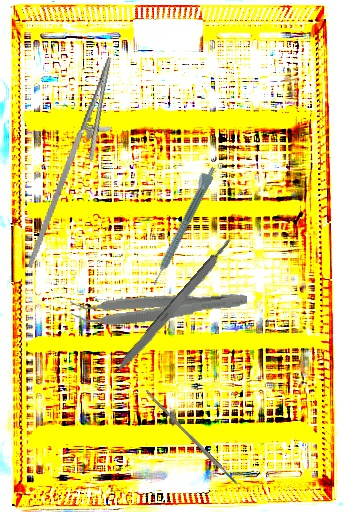Handpiece: (145, 163, 218, 287)
Needle Holder: (26, 50, 129, 279)
Scalpel Handle: (111, 236, 238, 378), (144, 389, 238, 486)
Tissue Forceps: (69, 280, 249, 331)
